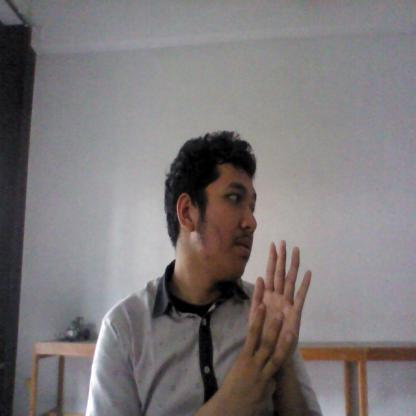M: (232, 236, 320, 410)
